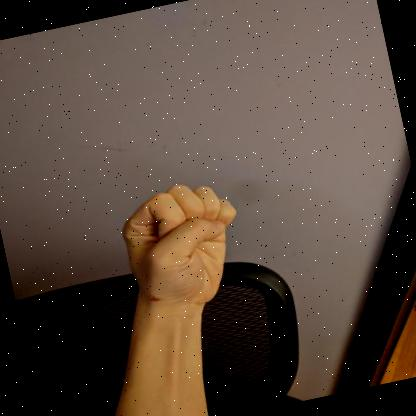E: (122, 184, 236, 320)
